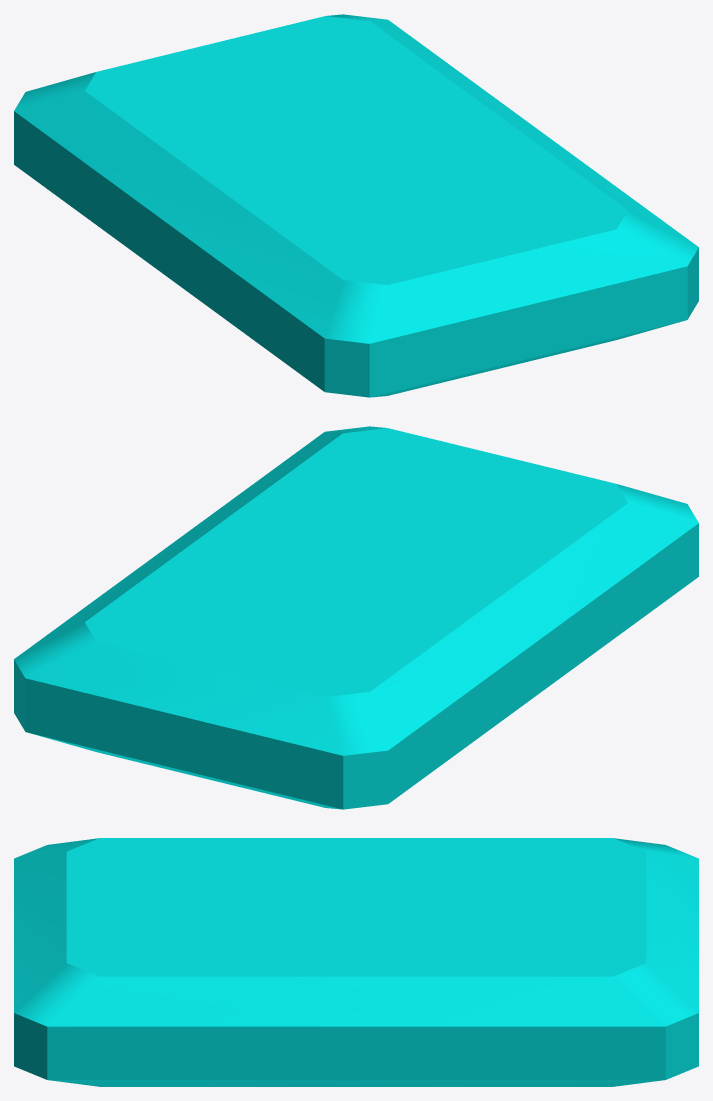
Rendered from SM_Prop_Inflatable_08_Collision.fbx.
The picture shows the model from 3 angles, top to bottom: view 1: azimuth 30°, elevation 25°; view 2: azimuth 150°, elevation 25°; view 3: azimuth 270°, elevation 25°; orthographic projection.
Visible parts, largest first — view 1: SM_Prop_Inflatable_08_Collision; view 2: SM_Prop_Inflatable_08_Collision; view 3: SM_Prop_Inflatable_08_Collision.
Part boxes in pixels (x1,y1,x2,y2): SM_Prop_Inflatable_08_Collision: [14, 14, 698, 397]; SM_Prop_Inflatable_08_Collision: [14, 426, 698, 809]; SM_Prop_Inflatable_08_Collision: [14, 838, 698, 1086].
Size of the model in its own units: 252 by 71.41 by 402.
